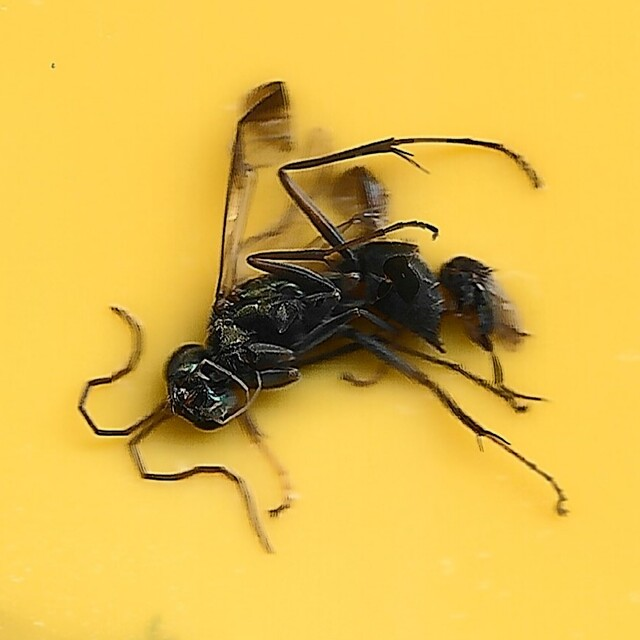Hymenoptera: (74, 81, 566, 559)
